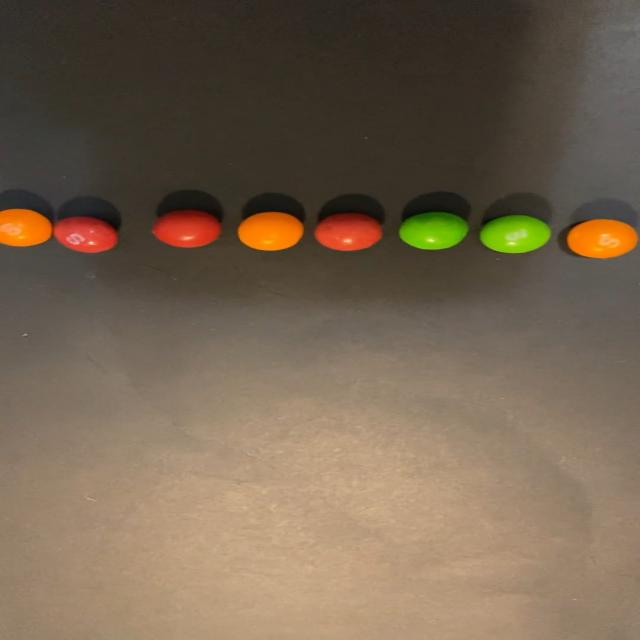smartie: (568, 219, 638, 258), (480, 215, 551, 253), (314, 212, 382, 250), (399, 212, 468, 249), (151, 210, 219, 247), (237, 212, 302, 250), (52, 216, 116, 252), (0, 208, 50, 246)
